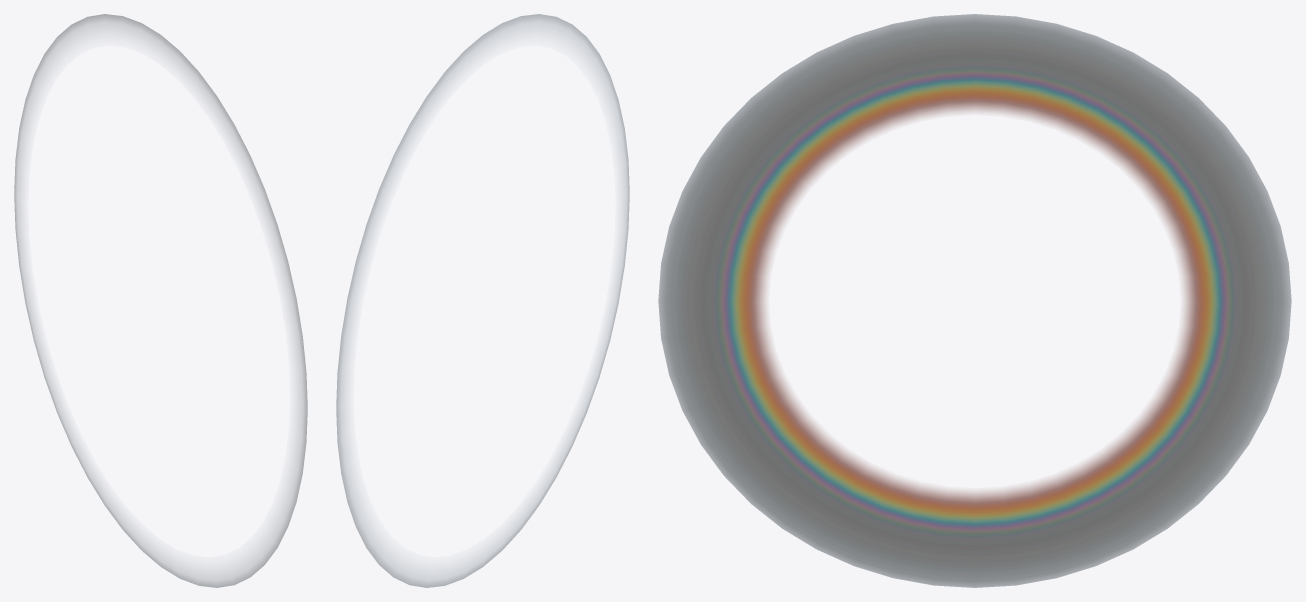
The model's file is rainbow.glb.
3 renders of one model, left to right at view 1: azimuth 30°, elevation 25°; view 2: azimuth 150°, elevation 25°; view 3: azimuth 270°, elevation 25°, orthographic. The views are drawn at different scales.
Visible parts, largest first — view 1: Torus; view 2: Torus; view 3: Torus.
Part boxes in pixels (x1,y1,x2,y2): Torus: (14, 14, 307, 587); Torus: (336, 14, 629, 587); Torus: (658, 14, 1291, 587).
Size of the model in its own units: 0.0149 by 1.96 by 1.96.
1 material, 1 textured.
